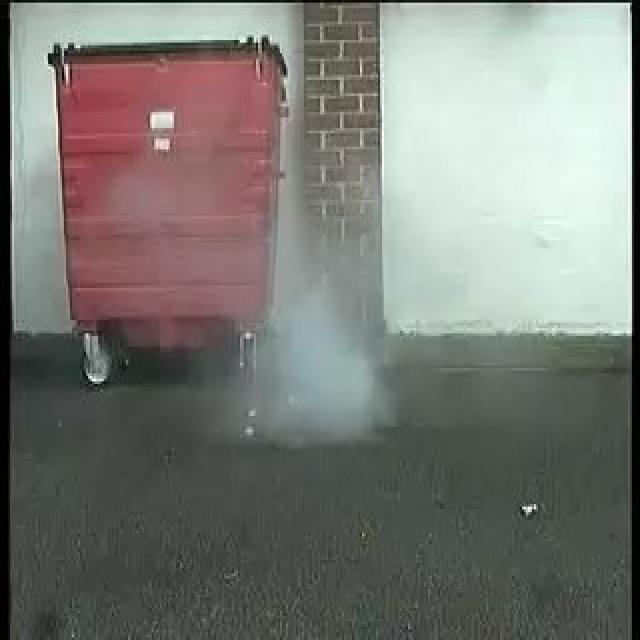smoke: (264, 254, 384, 435)
